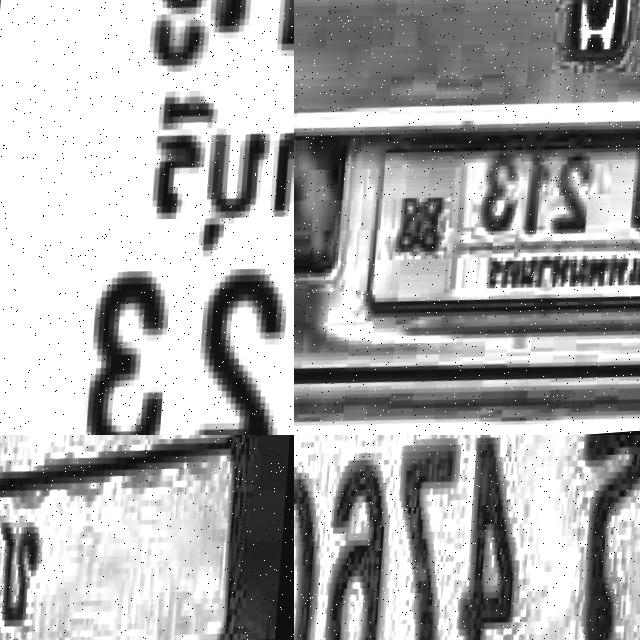license-plate: (0, 0, 294, 435), (356, 104, 640, 368), (294, 435, 640, 640), (0, 435, 294, 640)
